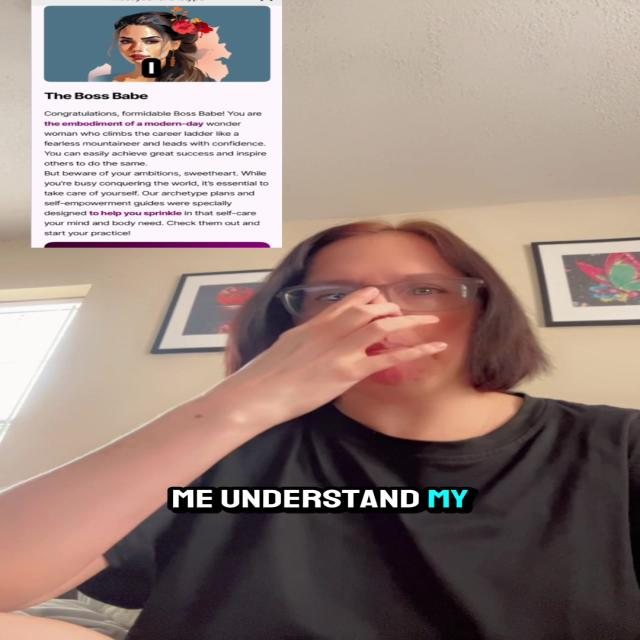7_mano_rostro: (208, 296, 439, 428)
